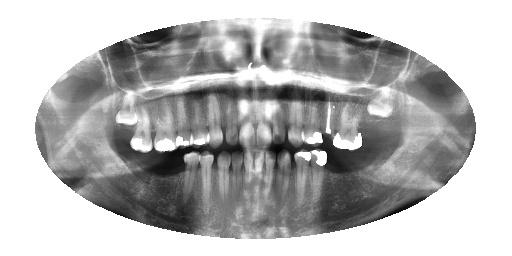i10decay: (231, 151, 244, 204)
i11healthy: (215, 150, 231, 205)
i12healthy: (198, 147, 216, 211)
i13healthy: (181, 152, 203, 209)
i14loss: (159, 156, 185, 209)
i15loss: (134, 156, 161, 208)
i16loss: (111, 154, 142, 191)
i1loss: (366, 133, 401, 178)
i2loss: (356, 150, 384, 209)
i3loss: (329, 149, 355, 208)
i4healthy: (311, 149, 328, 207)
i5healthy: (294, 150, 312, 207)
i6decay: (277, 150, 292, 205)
i7decay: (264, 150, 276, 204)
i8decay: (253, 149, 264, 205)
i9decay: (243, 150, 253, 205)
u10healthy: (226, 89, 240, 149)
u11healthy: (207, 89, 227, 152)
u12healthy: (190, 92, 212, 148)
u13healthy: (175, 93, 193, 151)
u14healthy: (151, 91, 177, 153)
u15healthy: (130, 100, 155, 153)
u16healthy: (116, 93, 140, 128)
u1healthy: (367, 87, 398, 121)
u2loss: (362, 94, 378, 152)
u3healthy: (335, 92, 363, 152)
u4chipped: (322, 91, 338, 144)
u5healthy: (301, 87, 325, 147)
u6healthy: (286, 91, 306, 150)
u7decay: (269, 89, 287, 145)
u8healthy: (256, 89, 272, 149)
u9decay: (240, 87, 256, 150)
